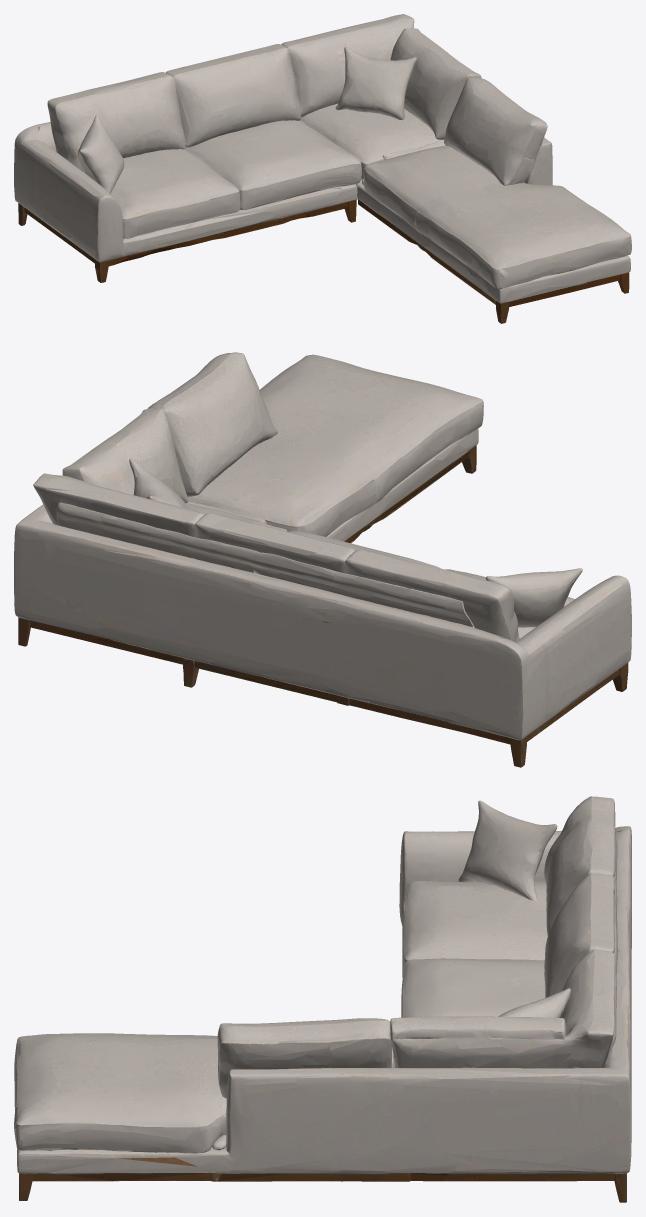
The model's file is caravanafurniture-com-products-mid-century-modern-chenille-s-a1cac3.glb.
3 renders of one model, top to bottom at view 1: azimuth 30°, elevation 25°; view 2: azimuth 150°, elevation 25°; view 3: azimuth 270°, elevation 25°, orthographic. The views are drawn at different scales.
Visible parts, largest first — view 1: Mesh_0; view 2: Mesh_0; view 3: Mesh_0.
Part boxes in pixels (bbox=[...]): Mesh_0: bbox=[14, 14, 631, 323]; Mesh_0: bbox=[14, 352, 631, 767]; Mesh_0: bbox=[14, 796, 631, 1202].
Bounding box in the file's own units: 1.9 × 0.5747 × 1.9.
Materials: 1 (1 with a texture image).
